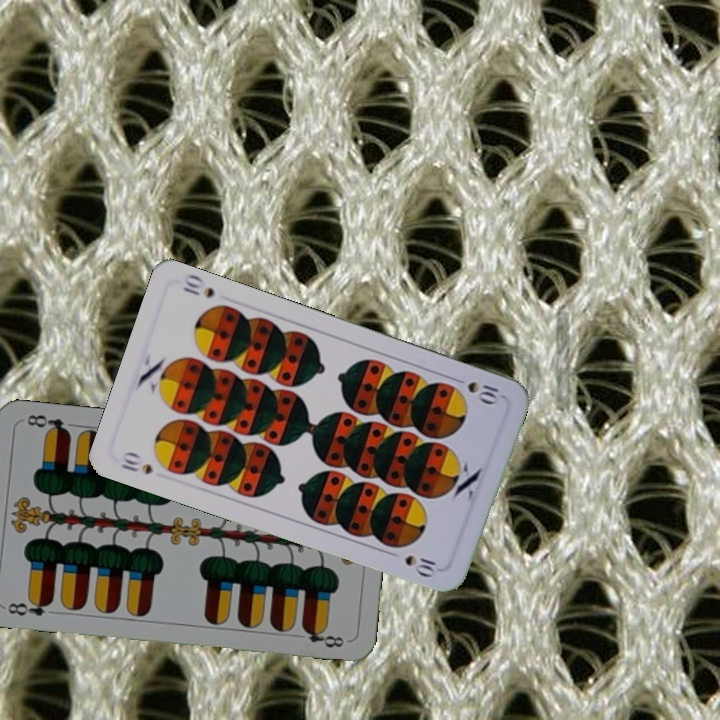E8: (4, 594, 55, 619)
S10: (448, 373, 505, 407), (117, 448, 156, 477)
